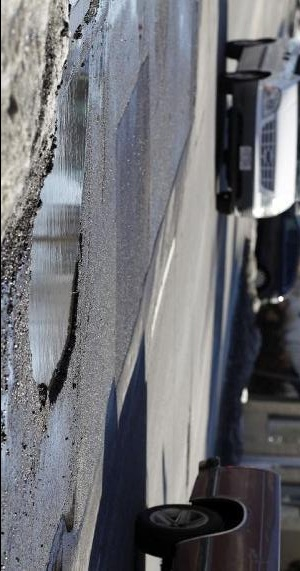pothole: (30, 51, 92, 408), (62, 492, 77, 533)
